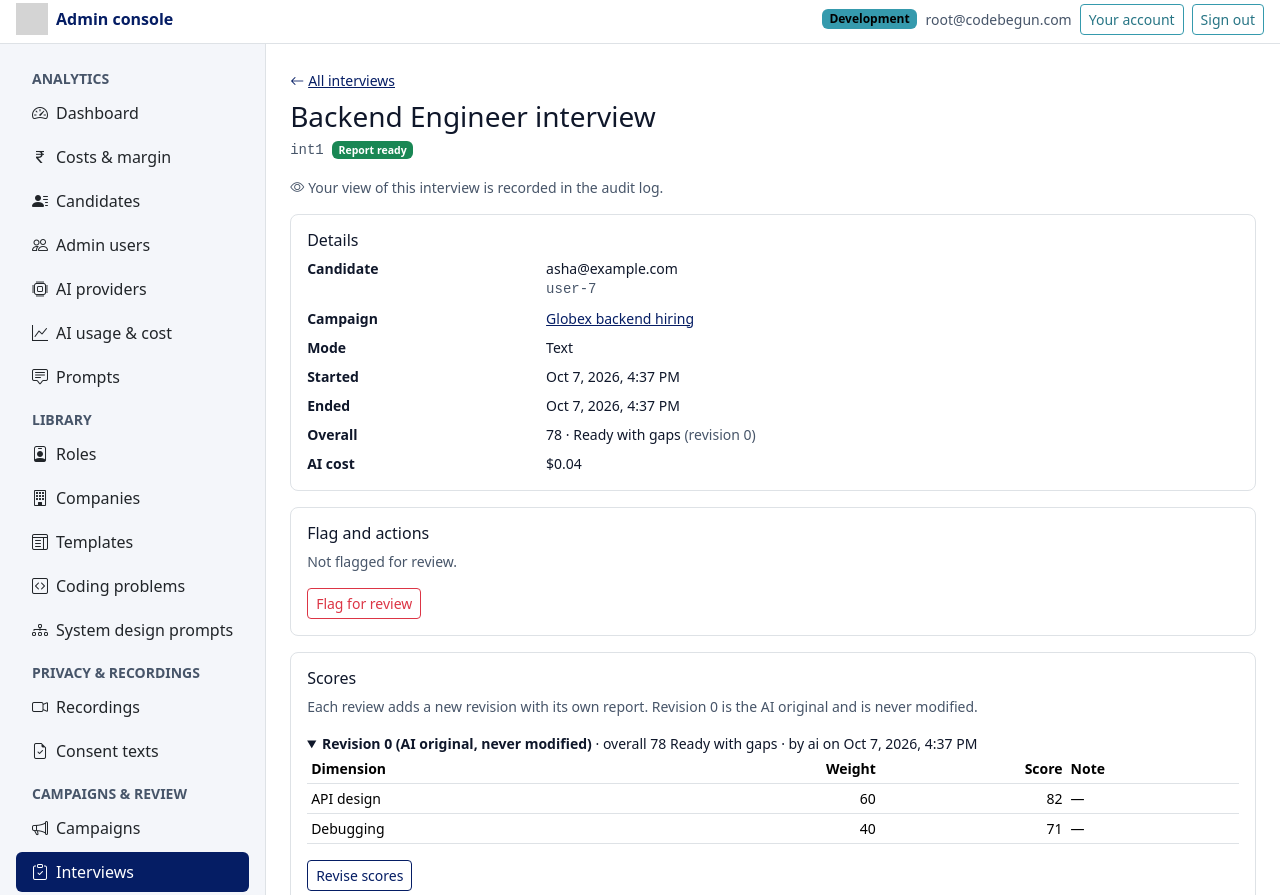
Test: interview review › shows the server message when the interview has no report yet
The width and height of the screenshot is (1280, 895).
Click the button "Revise scores": point(360, 876) [307, 860, 412, 891]
(page scrolled)
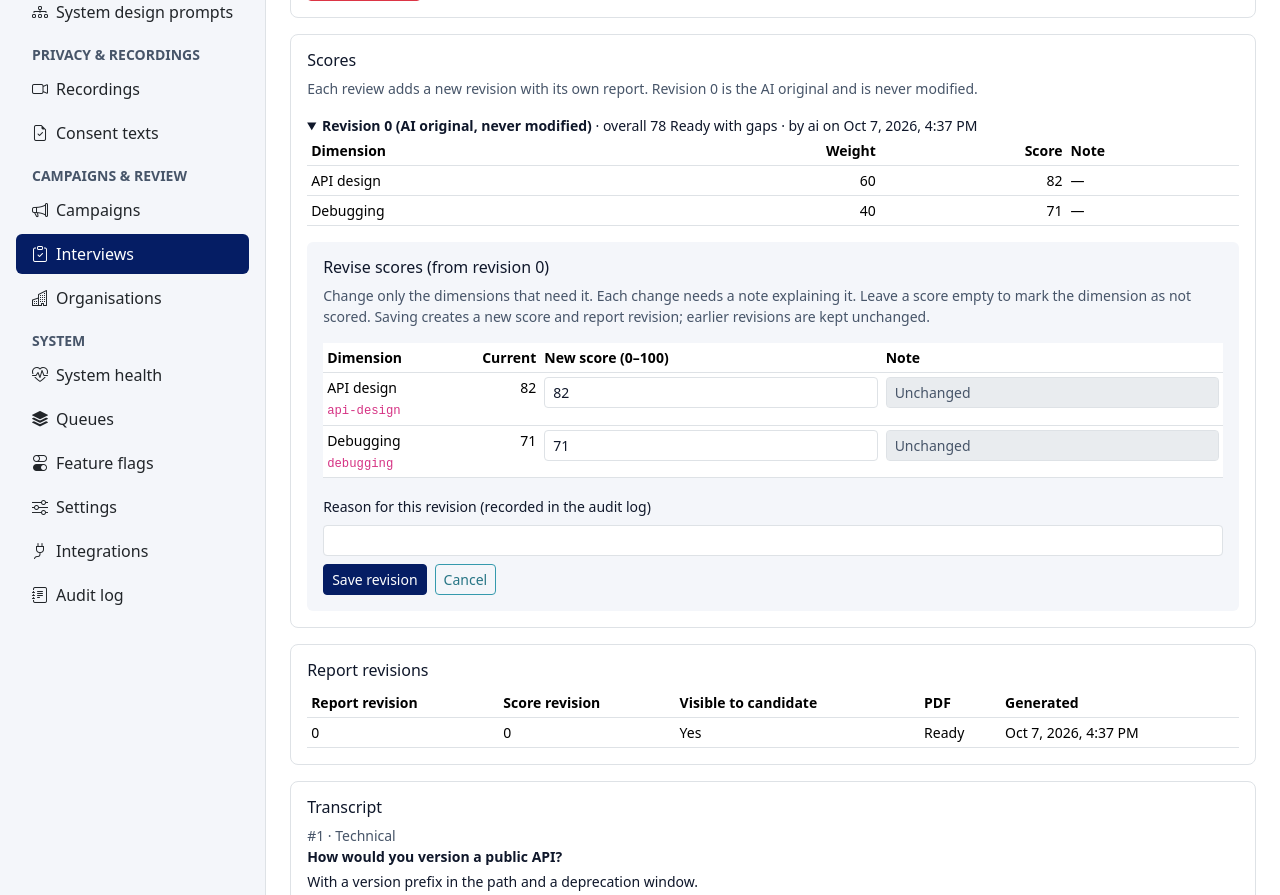
Replace the text in the 2nd field named "New score for Debugging" with "60": point(711, 445) [544, 430, 878, 461]
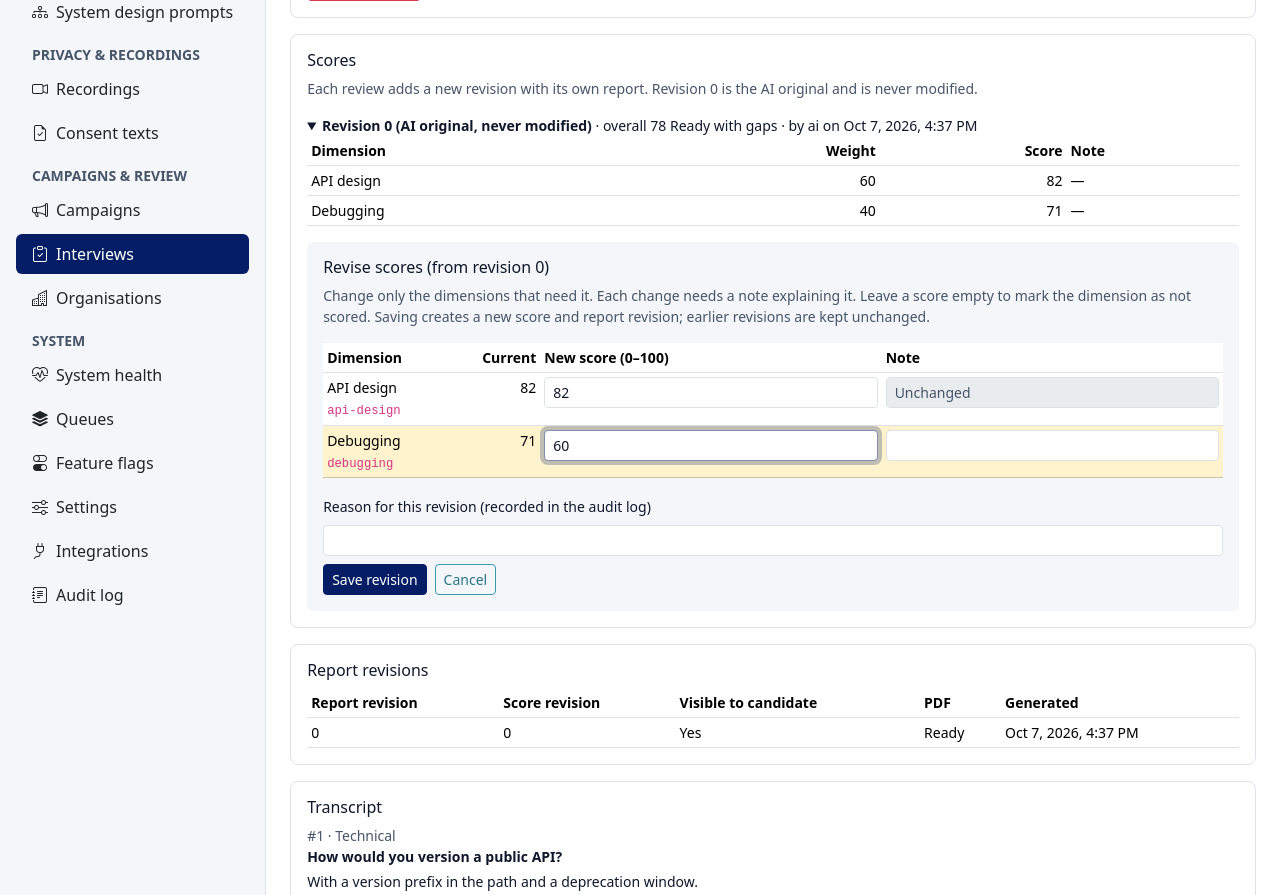
In the 3rd field named "Note for Debugging": point(1052, 445) [886, 430, 1219, 461], type "Missed the root cause"
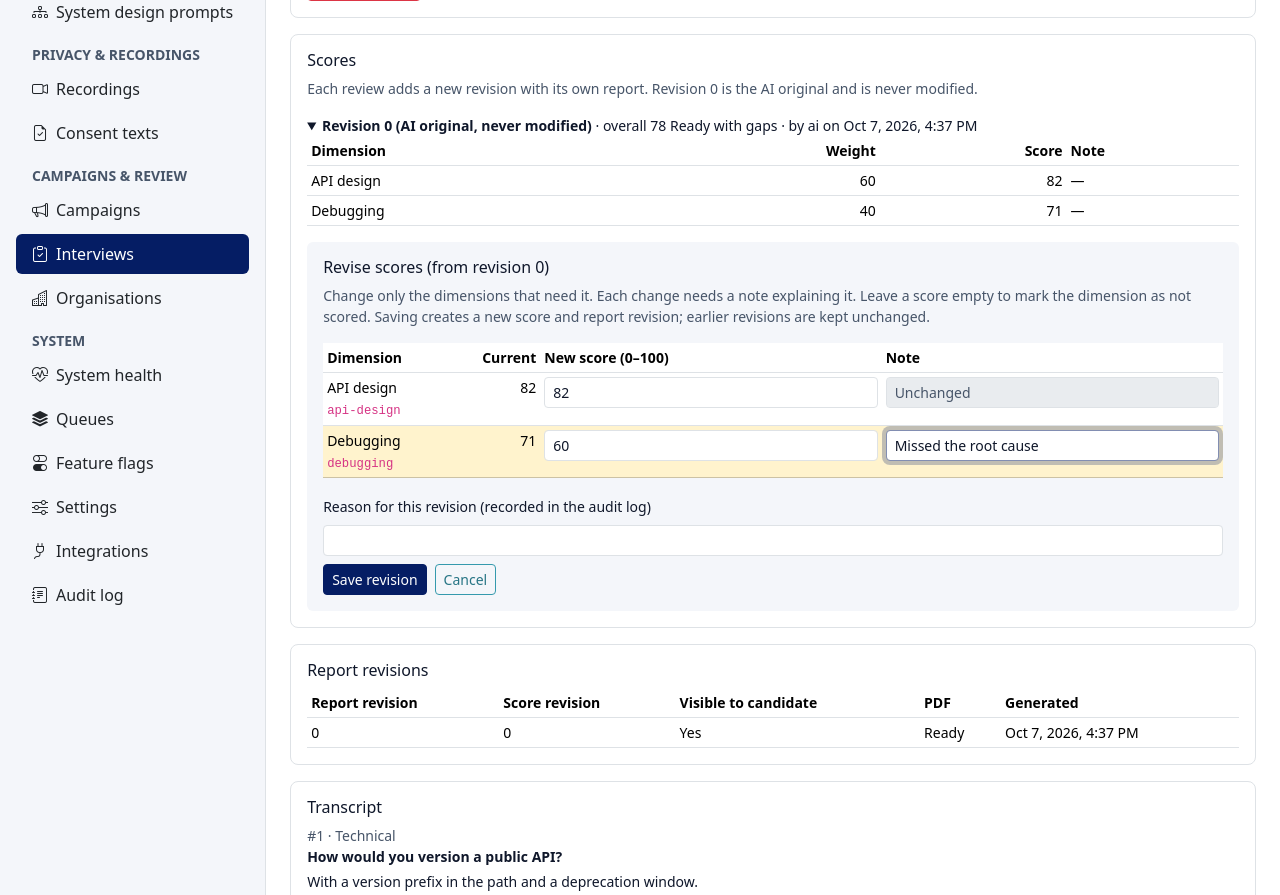
In the field labelled "Reason for this revision (recorded in the audit log)": point(773, 541) [323, 525, 1223, 556], type "Second look"
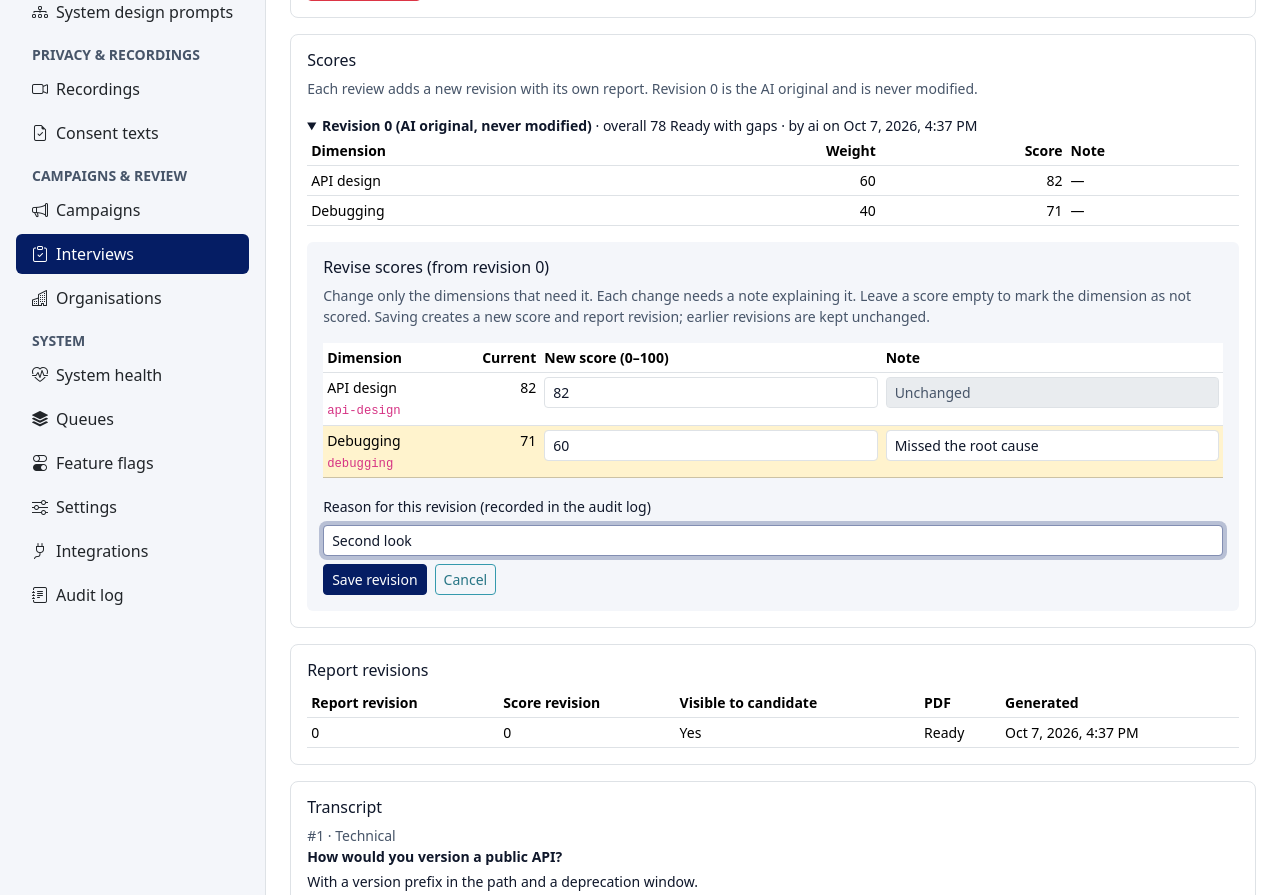
Click the button "Save revision": point(375, 580) [323, 564, 427, 595]
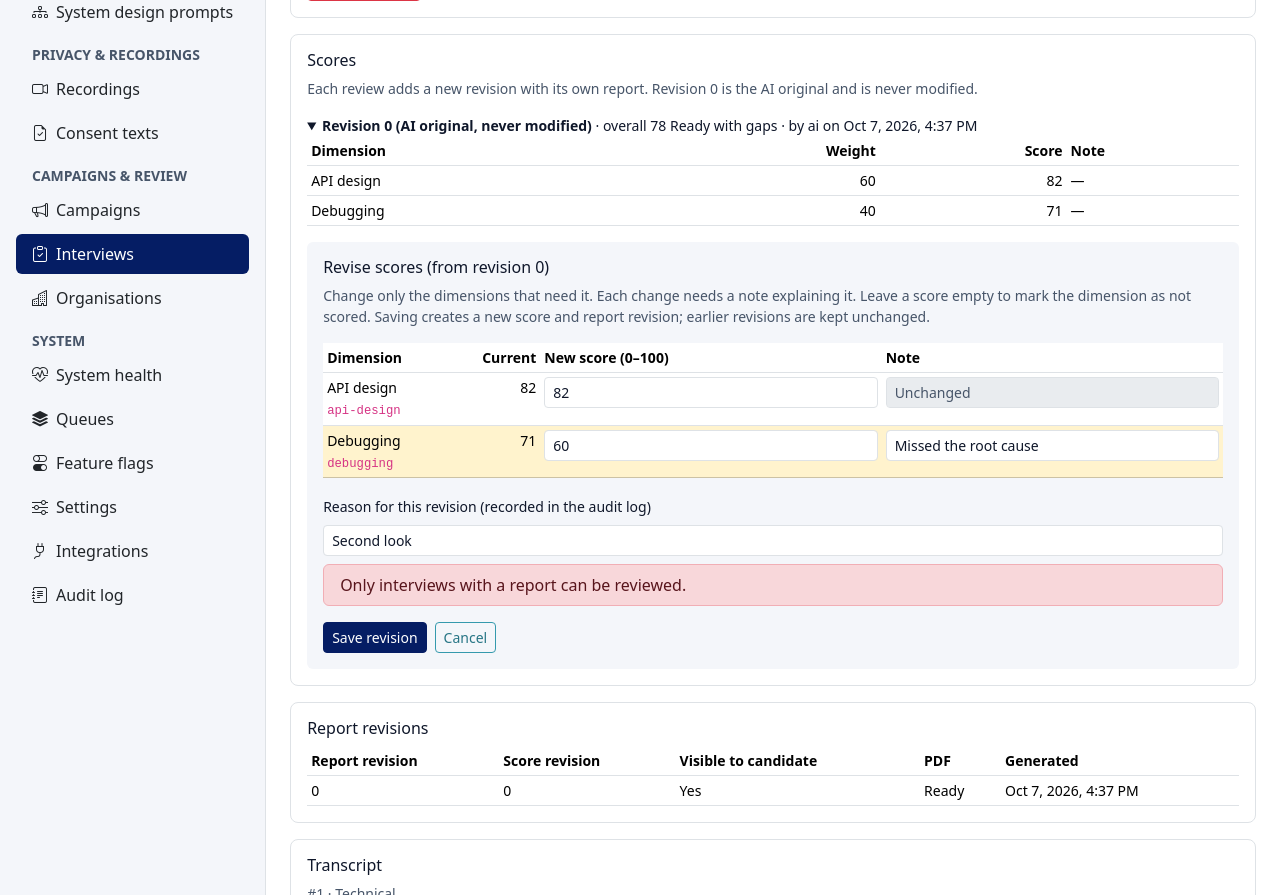
Check: the text "Only interviews with a report can be reviewed." is shown, box [323, 564, 1223, 606]
